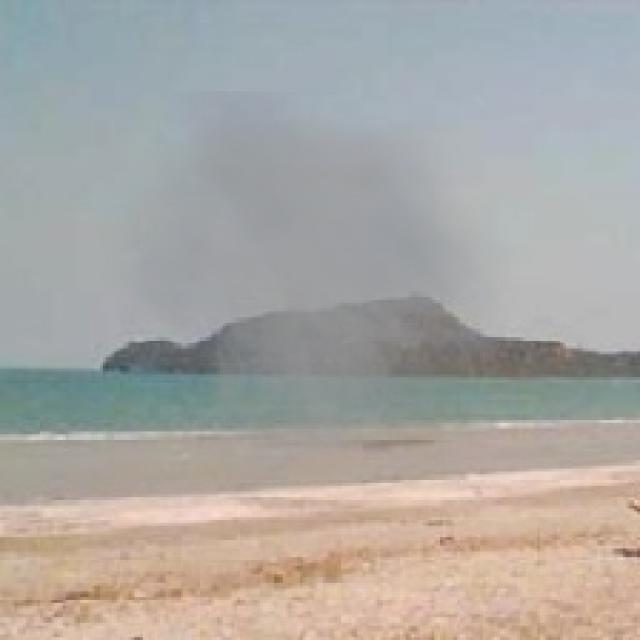smoke: (100, 92, 517, 497)
